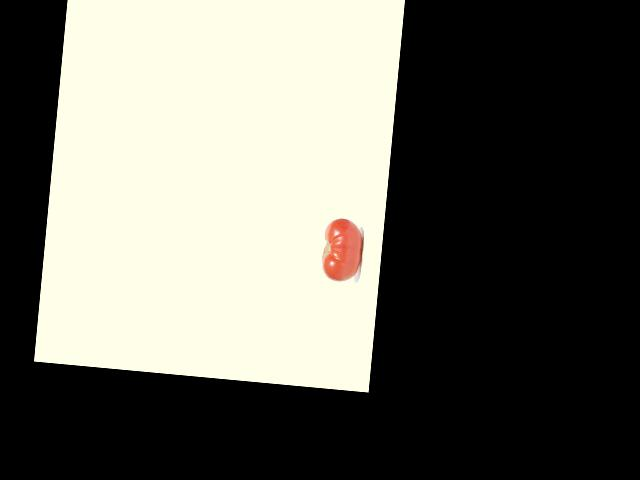tomato: (320, 216, 364, 282)
